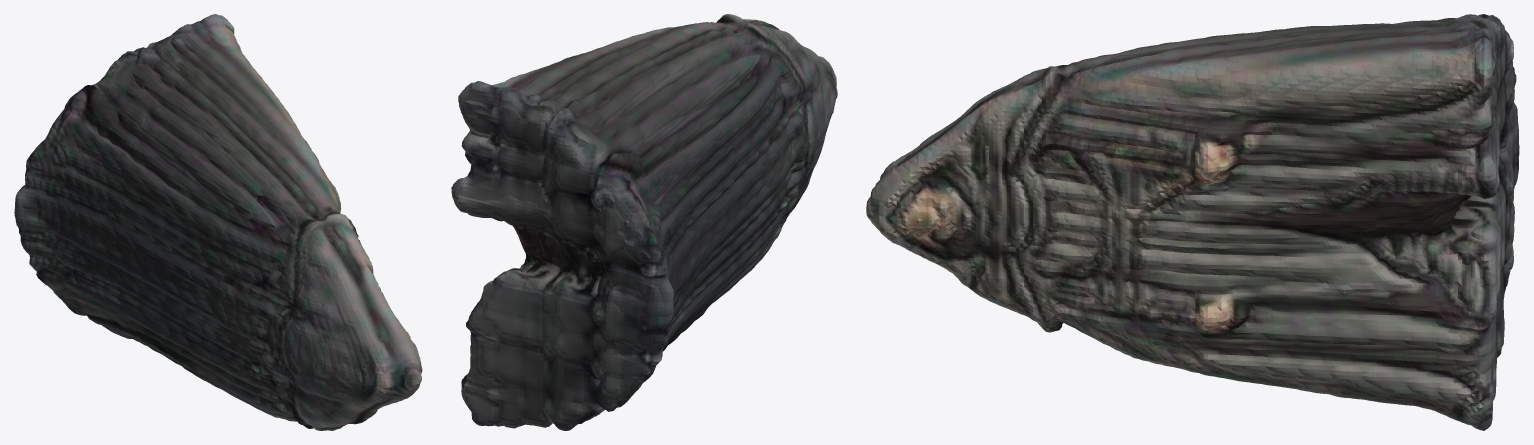
The picture shows the model from 3 angles, left to right: view 1: azimuth 30°, elevation 25°; view 2: azimuth 150°, elevation 25°; view 3: azimuth 270°, elevation 25°; orthographic projection. The views are drawn at different scales.
Visible parts, largest first — view 1: geometry_0; view 2: geometry_0; view 3: geometry_0.
Boxes of the visible parts, x1=… form: geometry_0: x1=14, y1=14, x2=422, y2=430; geometry_0: x1=451, y1=14, x2=837, y2=430; geometry_0: x1=866, y1=14, x2=1519, y2=430.
Size of the model in its own units: 0.4673 by 0.6696 by 1.02.
